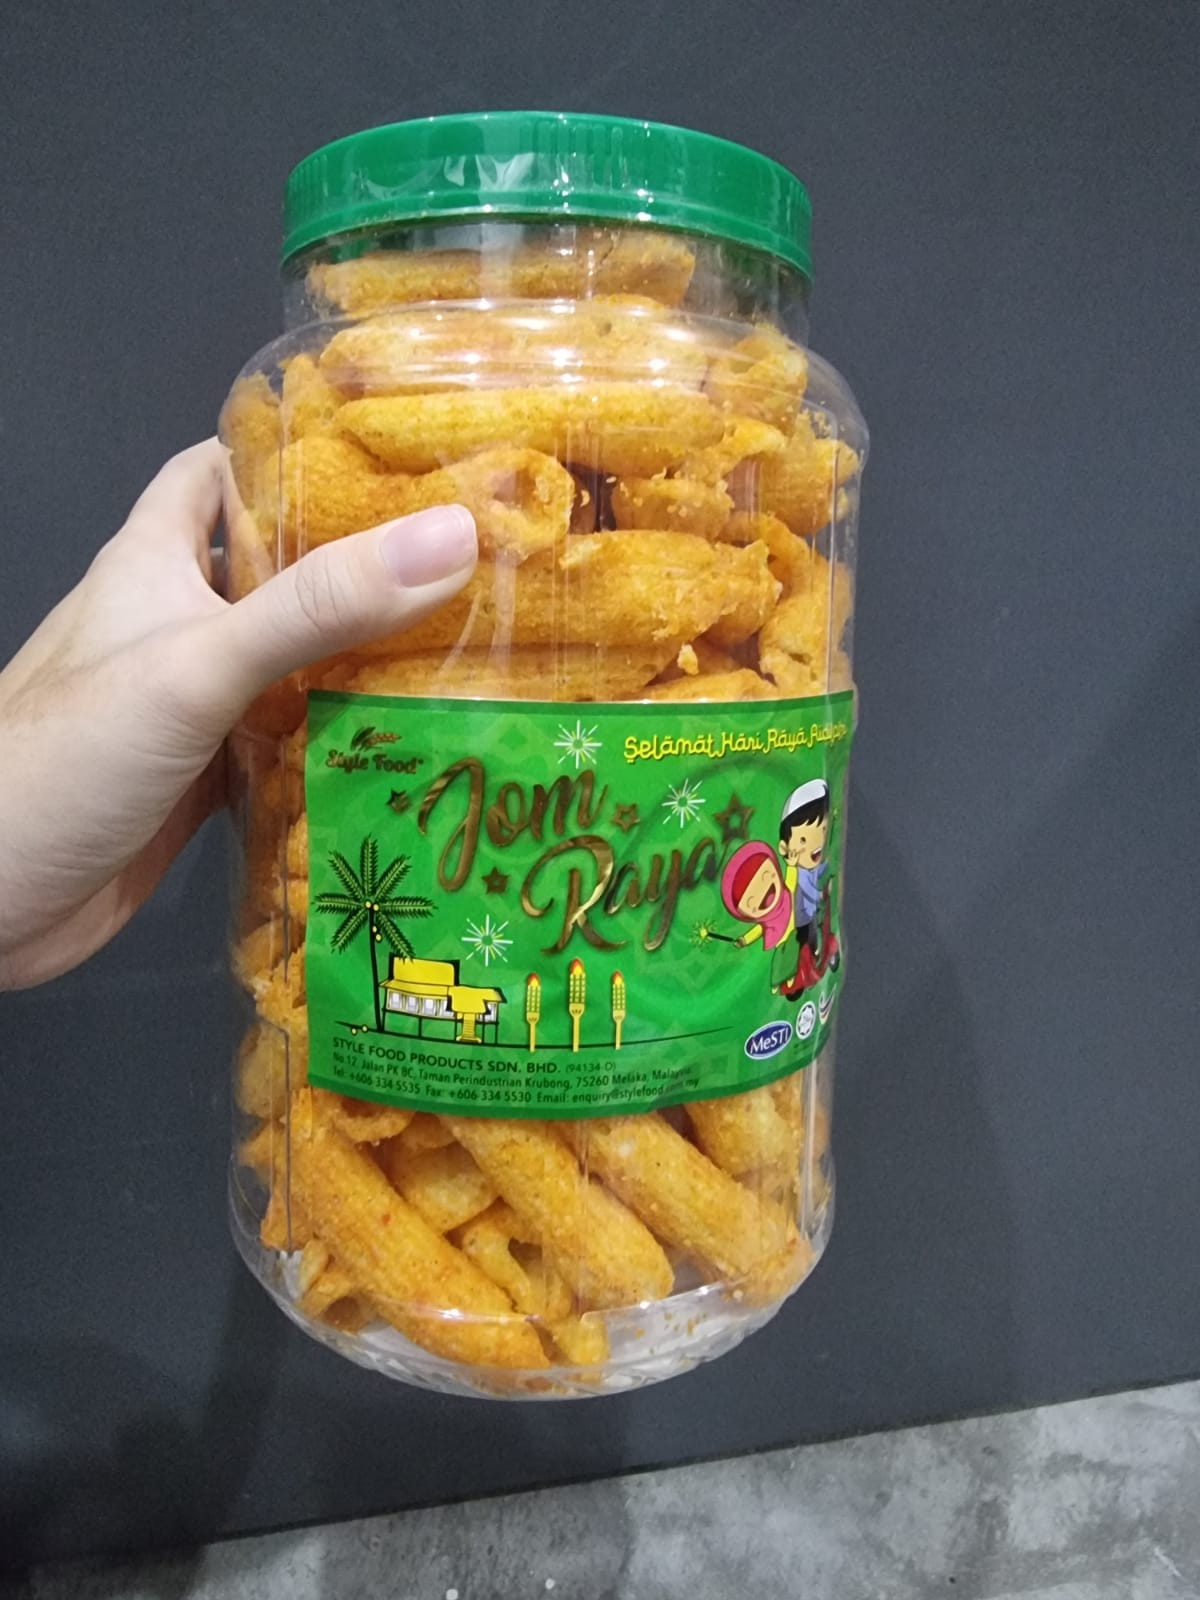Biscuits: (279, 265, 829, 1327)
